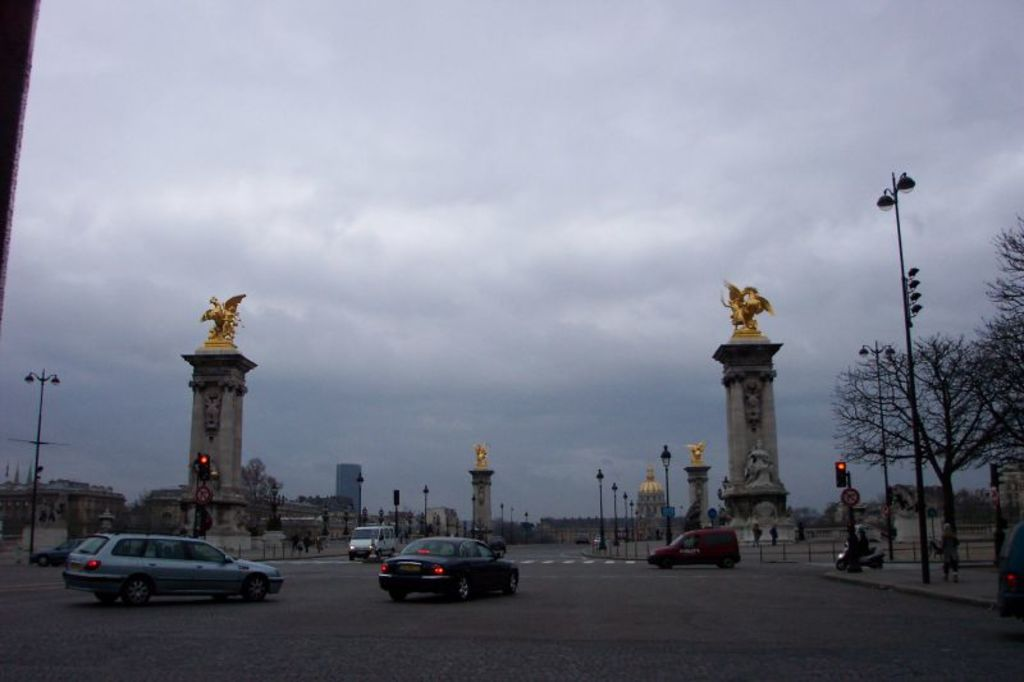Car: (55, 531, 276, 606), (375, 537, 519, 601), (647, 528, 742, 568), (464, 525, 510, 556), (32, 537, 80, 563)
